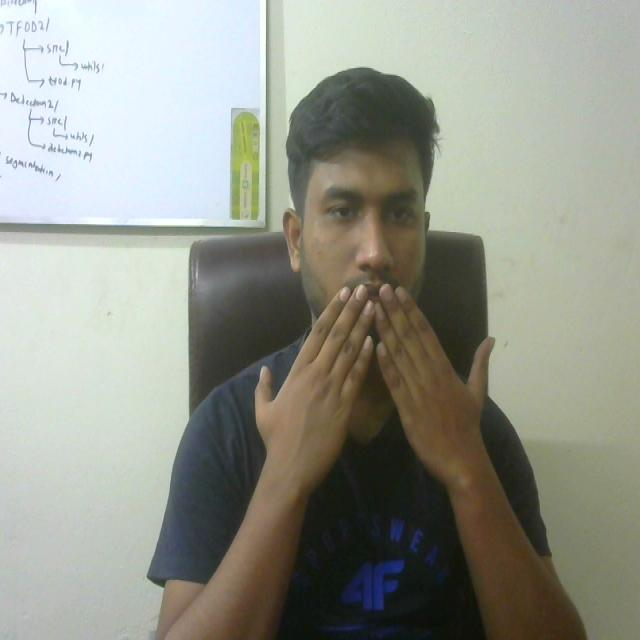Thanks: (240, 272, 507, 483)
